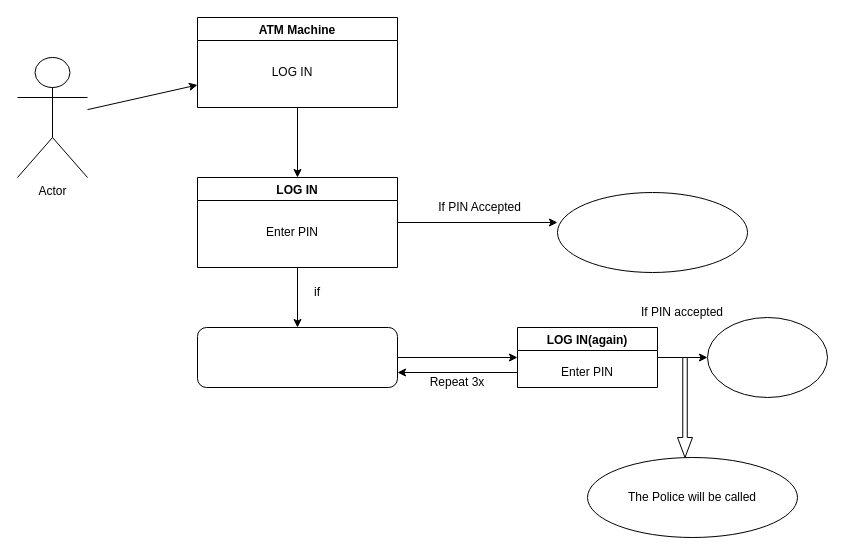
Image size: 845x555. Some labels were removed from this diagram. Each missing label, with the centre of its shape:
"INVALID" belongs at point 297,357.
"Successful" belongs at point 767,357.
"Successful!" belongs at point 652,232.
